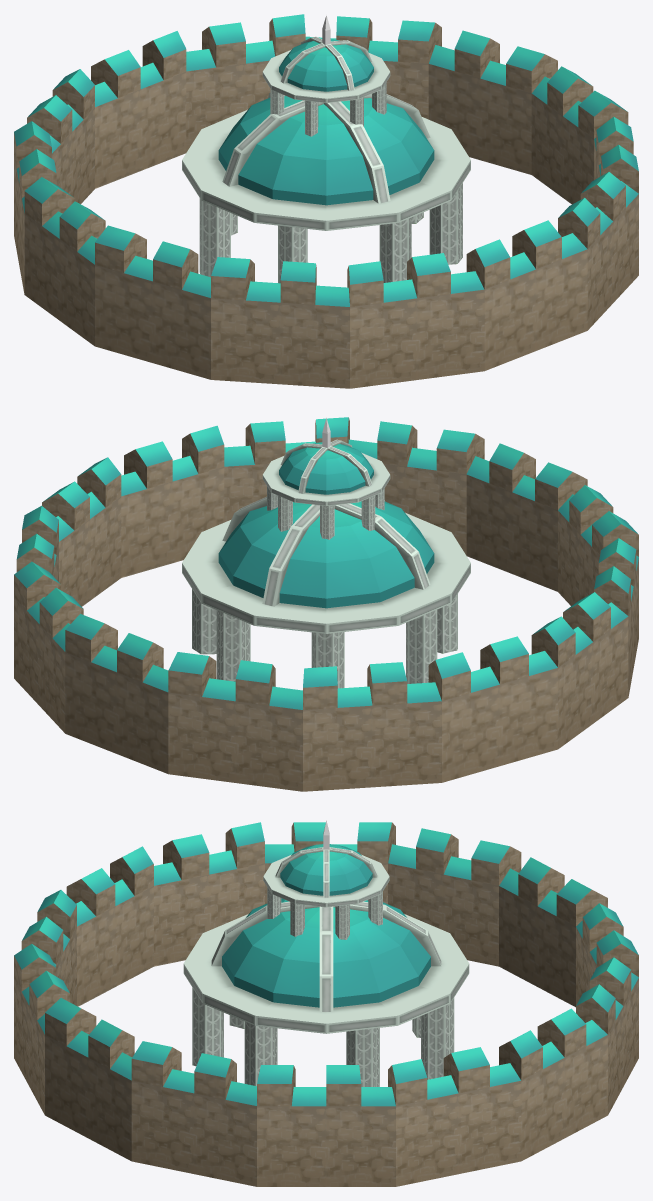
The model's file is Castle 1.fbx.
The picture shows the model from 3 angles, top to bottom: view 1: azimuth 30°, elevation 25°; view 2: azimuth 150°, elevation 25°; view 3: azimuth 270°, elevation 25°; orthographic projection.
Parts seen in each view (by area): view 1: Castle; view 2: Castle; view 3: Castle.
Boxes of the visible parts, <box> form: Castle: <box>14,14,638,388</box>; Castle: <box>14,417,638,791</box>; Castle: <box>14,820,638,1186</box>.
Bounding box in the file's own units: 526 × 227 × 540.
2 materials, 2 textured.
